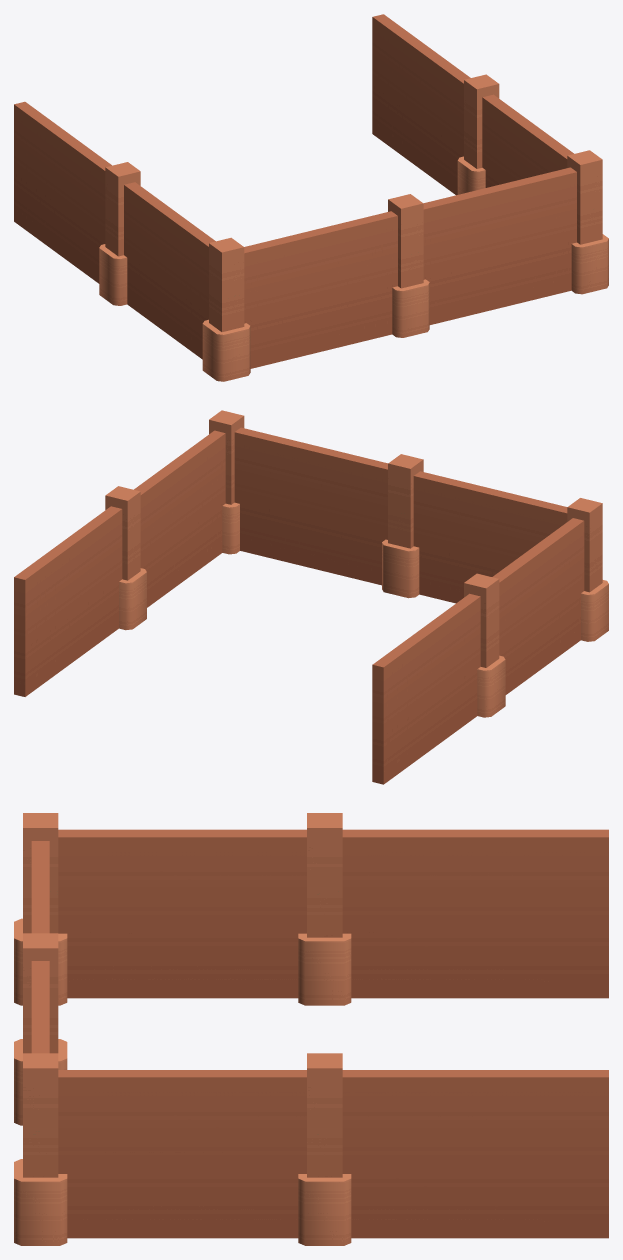
File: fence_2x2.glb
3 renders of one model, top to bottom at view 1: azimuth 30°, elevation 25°; view 2: azimuth 150°, elevation 25°; view 3: azimuth 270°, elevation 25°, orthographic. The views are drawn at different scales.
Parts seen in each view (by area): view 1: fence-2x2; view 2: fence-2x2; view 3: fence-2x2.
Boxes of the visible parts, x1,y1,x2,y2 form: fence-2x2: (14,14,608,381); fence-2x2: (14,410,608,784); fence-2x2: (14,813,608,1245).
Bounding box in the file's own units: 0.875 × 0.27 × 0.8375.
Materials: 1 (1 with a texture image).
